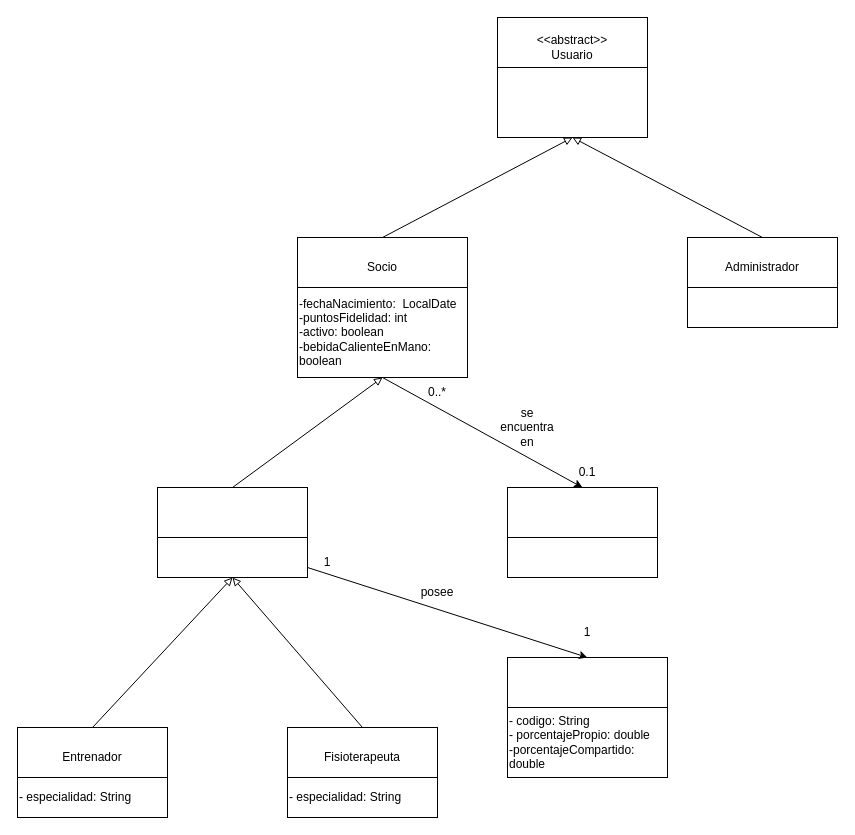
Image size: 855x835. Some labels were removed from this diagram. Each missing label, with the centre of its shape:
"- id: String - login: String - password: String - nombre: String" goes at pixel 572 102.
"<<abstract>> Empleado" goes at pixel 232 517.
"CodigoDescuento" goes at pixel 587 687.
"Instalacion" goes at pixel 582 517.
